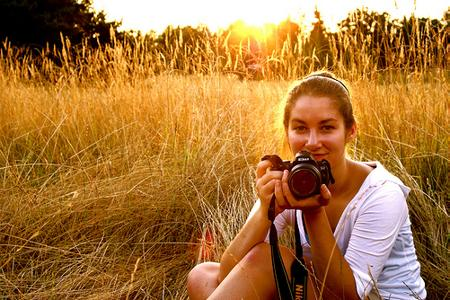person: (189, 71, 428, 300)
